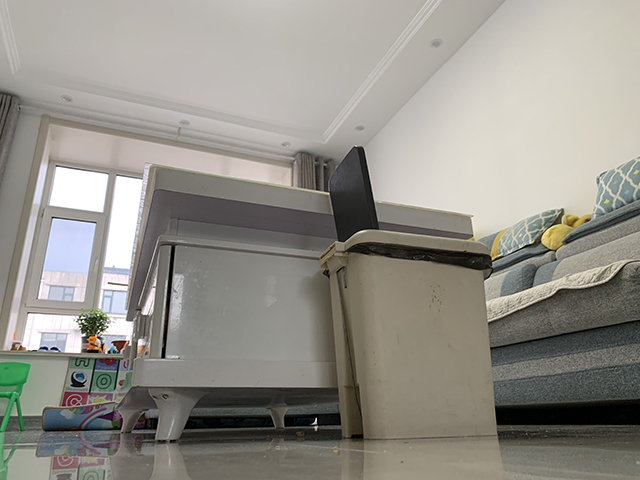sofa: (475, 154, 640, 409)
stool: (1, 361, 32, 433)
table: (114, 160, 475, 444)
trashcan: (317, 144, 499, 442)
